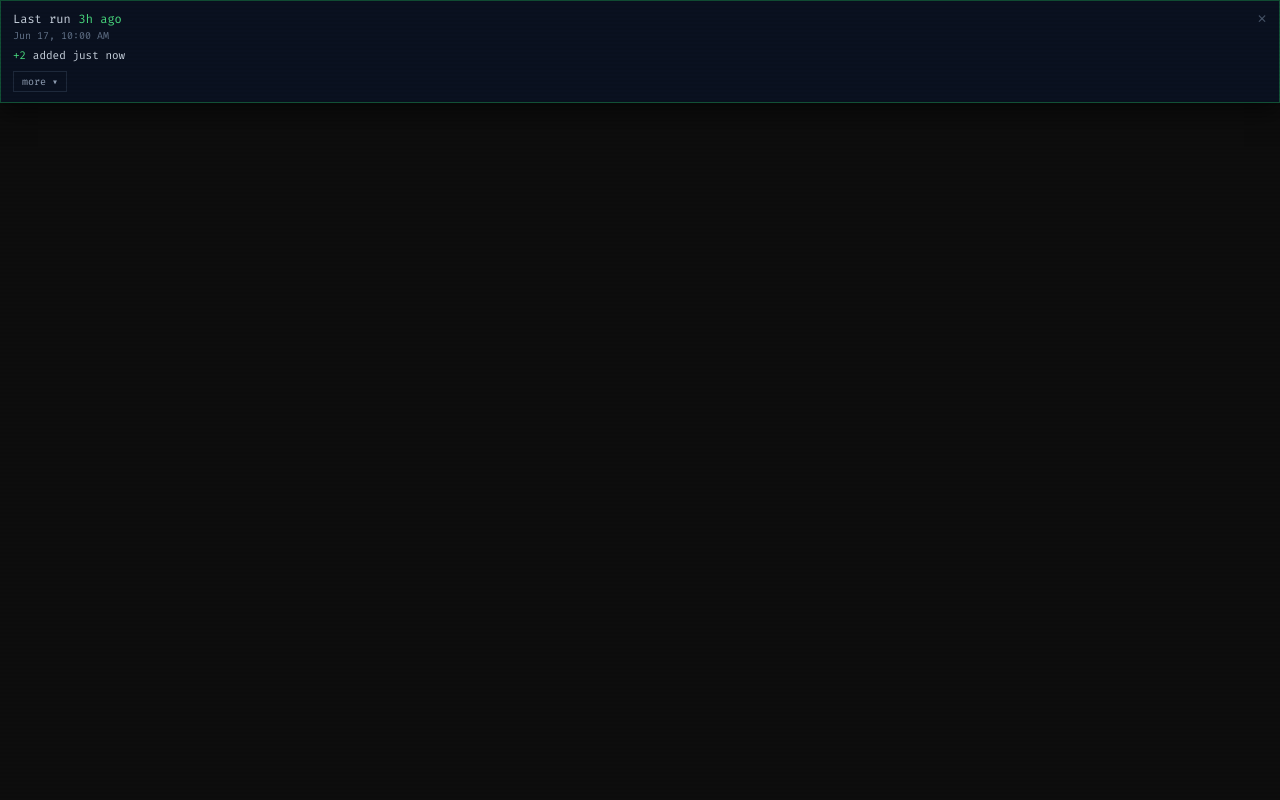
Scenario: "more" reveals the list of everything added today
Expected: the text "Robin weekly" is not shown
Click the button "more ▾" at (40, 82), box x1=13 y1=71 x2=67 y2=92
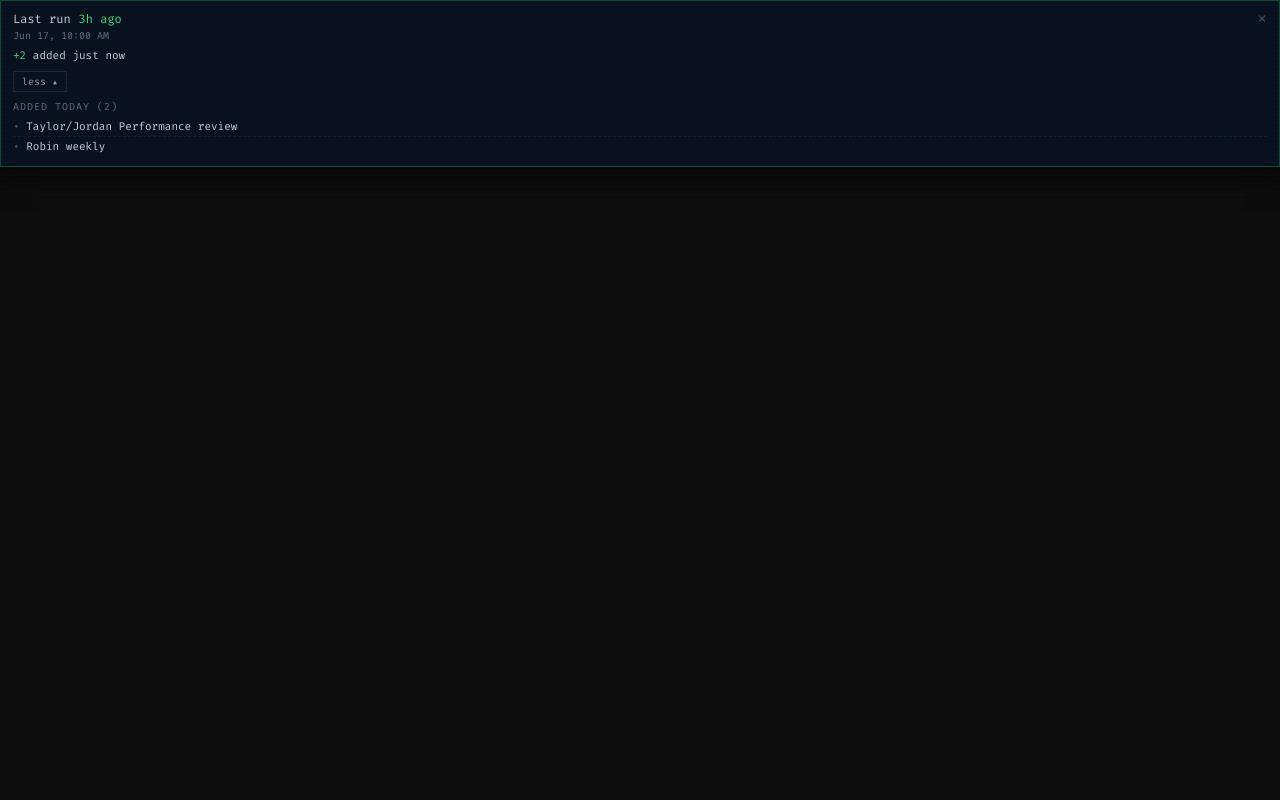
Result: the text "Added today (2)" is shown at x1=13 y1=100 x2=118 y2=113
Result: the text "Robin weekly" is shown at x1=26 y1=139 x2=105 y2=154
Result: the text "Taylor/Jordan Performance review" is shown at x1=26 y1=119 x2=237 y2=134
